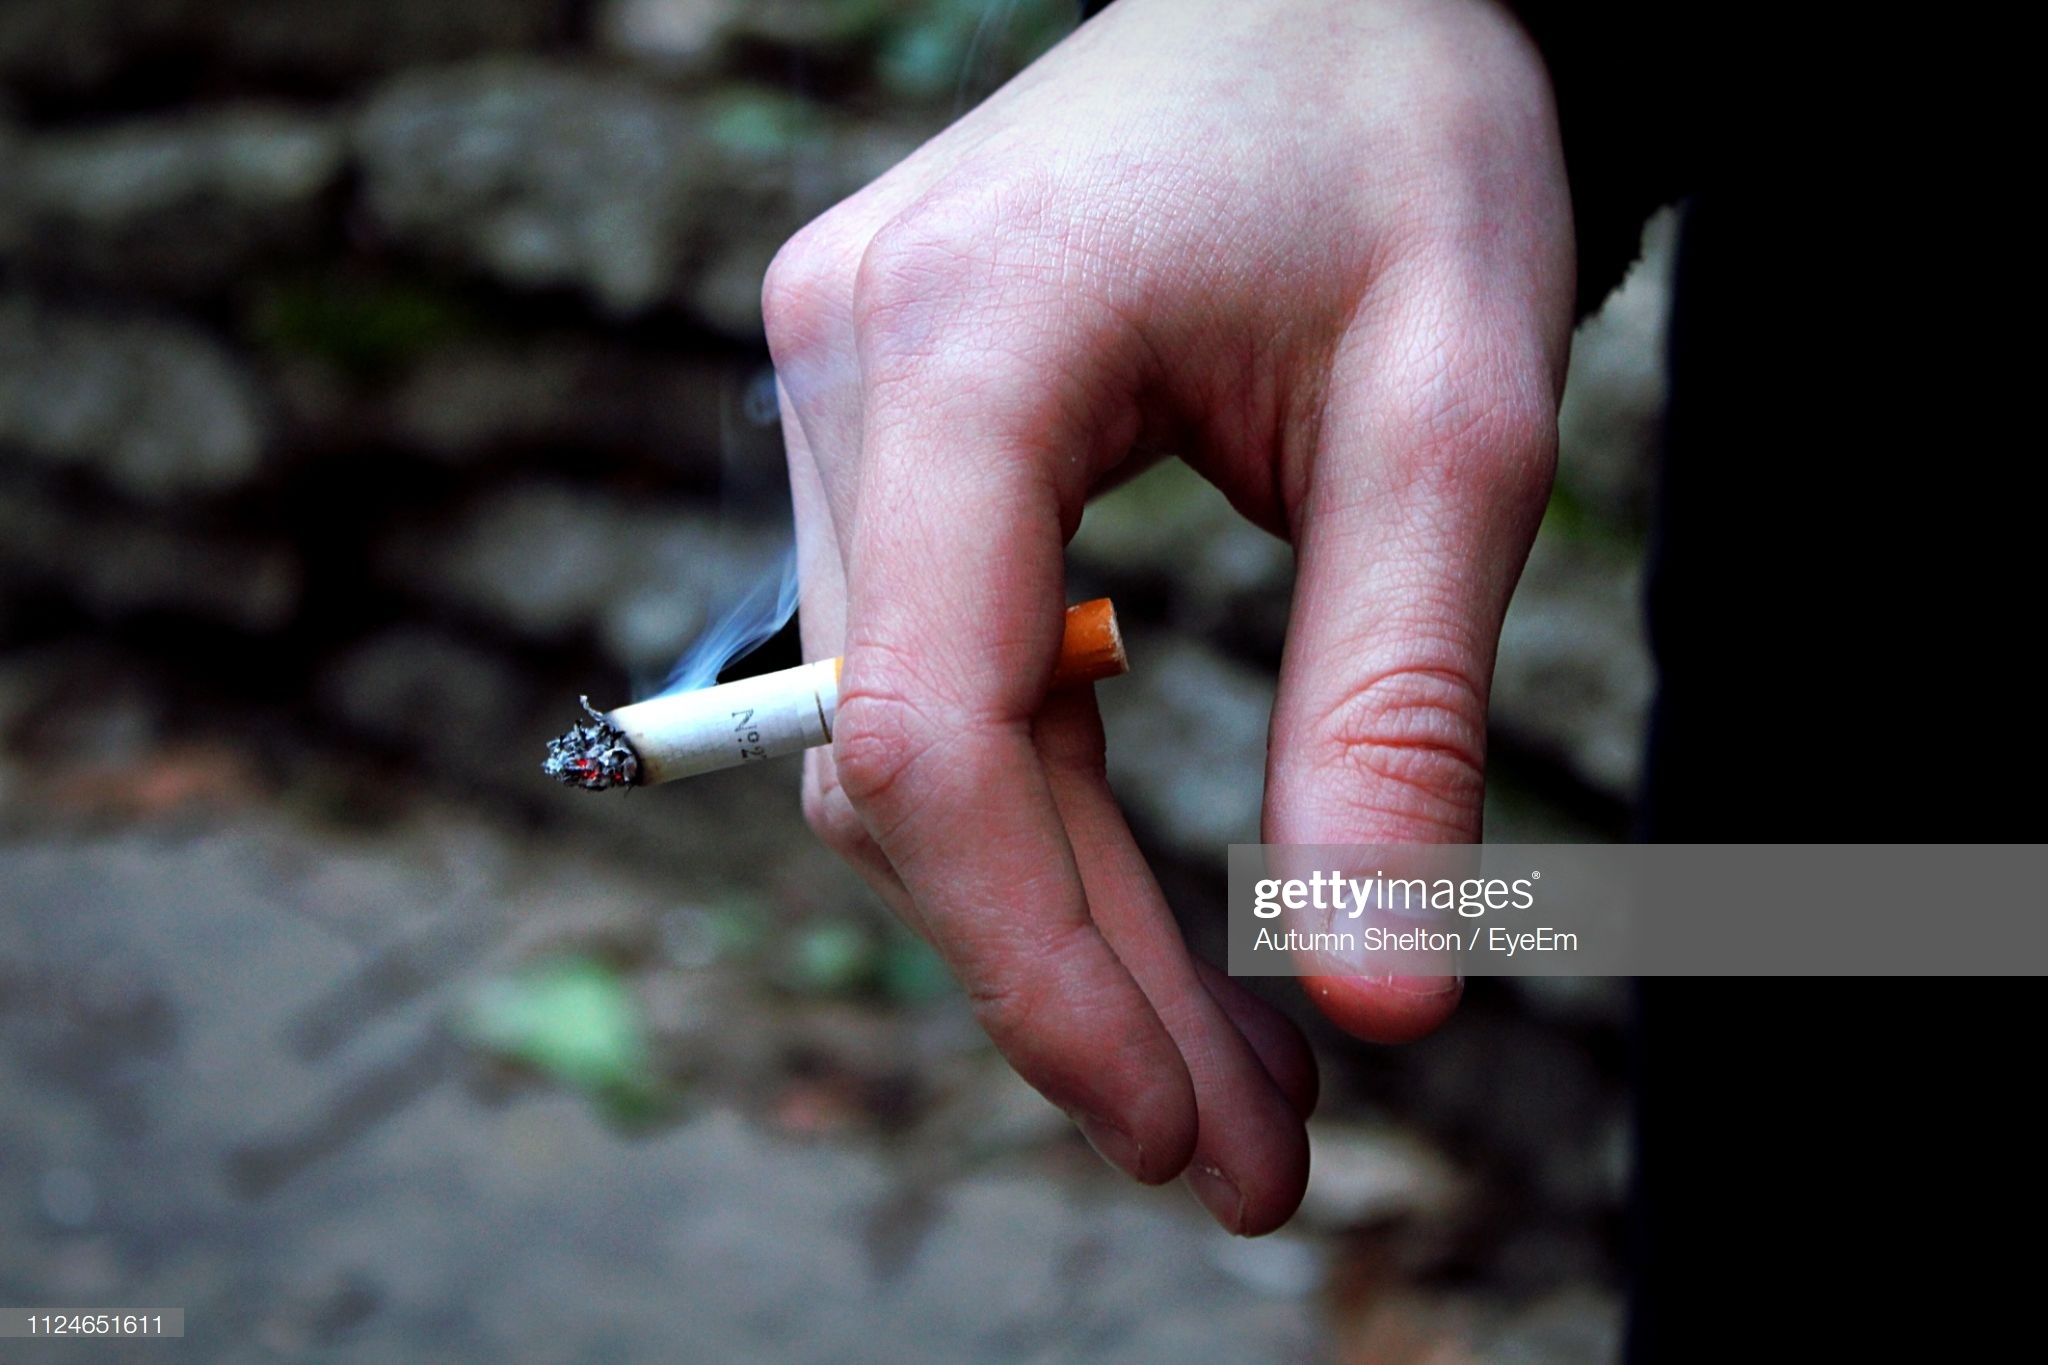sigaretta: (560, 568, 1136, 833)
